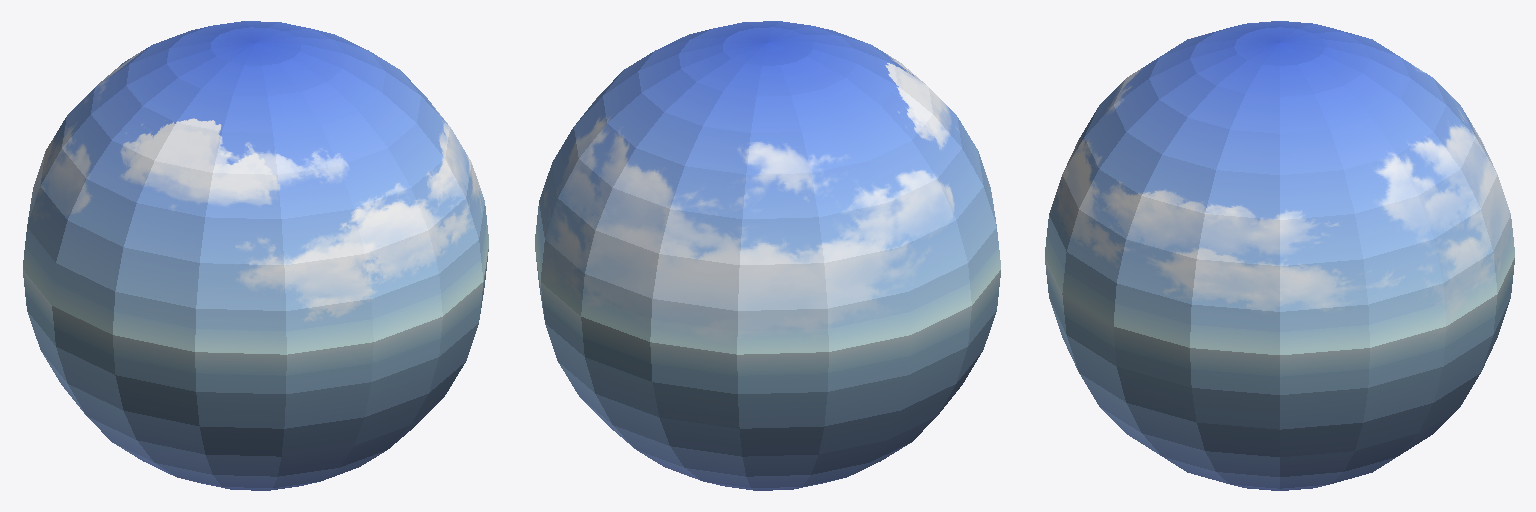
3 views of the same model, side by side, from view 1: azimuth 30°, elevation 25°; view 2: azimuth 150°, elevation 25°; view 3: azimuth 270°, elevation 25° (orthographic).
Visible parts, largest first — view 1: Skybox; view 2: Skybox; view 3: Skybox.
Part boxes in pixels (bbox=[...]): Skybox: bbox=[23, 21, 488, 490]; Skybox: bbox=[535, 21, 1000, 490]; Skybox: bbox=[1045, 21, 1514, 490].
Bounding box in the file's own units: 338 × 338 × 338.
Materials: 1 (1 with a texture image).